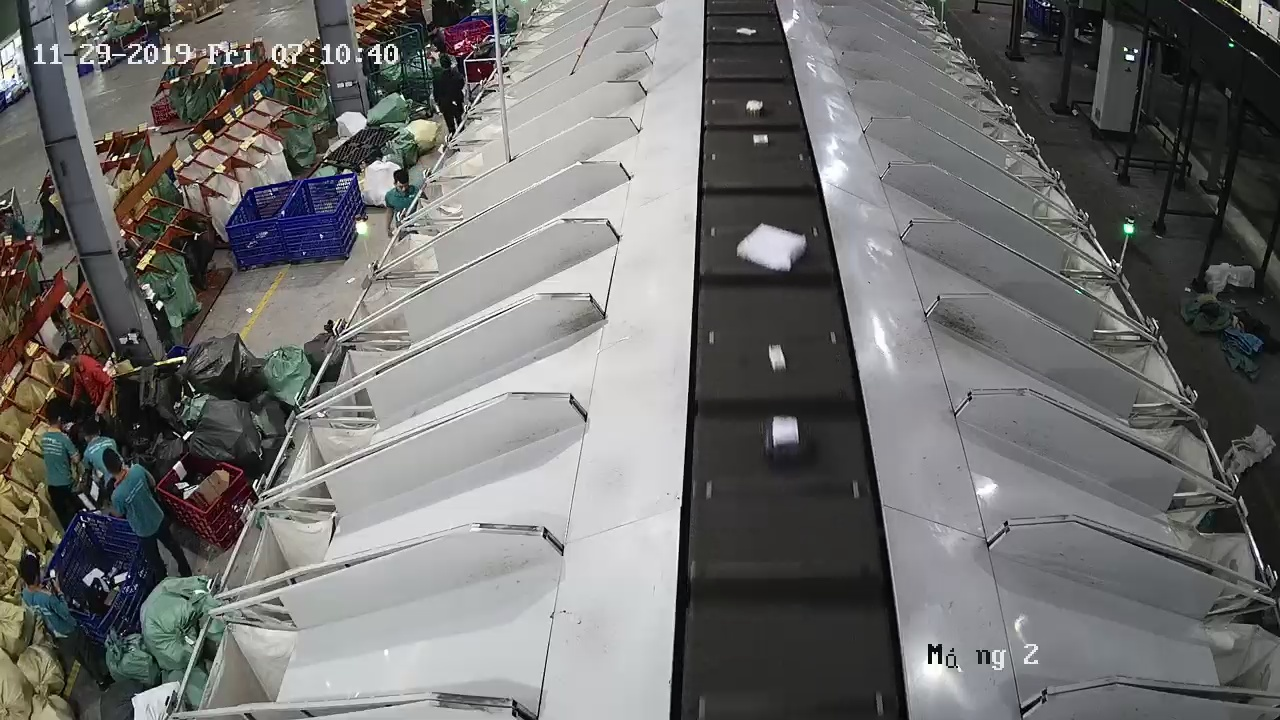parcel: (736, 223, 807, 272), (761, 413, 813, 466), (768, 344, 787, 373)
